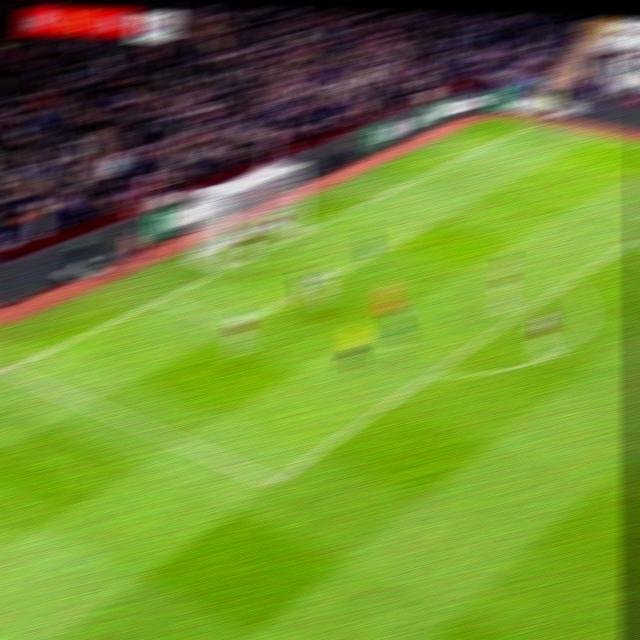bigarea_bottom_inner: (255, 464, 290, 497)
bigarea_bottom_outter: (0, 357, 19, 381)
bigarea_top_outter: (425, 160, 449, 175)
bottom_arc_area_intersection: (416, 362, 446, 385)
corner: (519, 119, 545, 131)
smallarea_bottom_outter: (147, 286, 176, 309)
smallarea_top_inner: (404, 219, 430, 240)
smallarea_top_outter: (334, 200, 361, 221)
top_arc_area_intersection: (554, 273, 580, 290)
